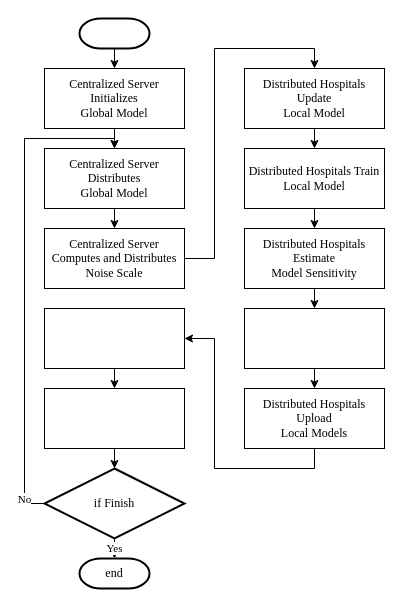
The diagram is 402 pixels wide and 606 high, and some of its shapes have lost their labels. The shapes that lost their labels are listed below. From the top down, each one's box as (x1, y1, x2, y2) in pixels, then its label:
(78, 17, 150, 49): Start
(44, 308, 184, 368): Centralized Server Aggregates Local Models
(244, 308, 384, 368): Distributed Hospitals Add Privacy Noise
(44, 388, 184, 448): Centralized Server Recalculates Communication Rounds
